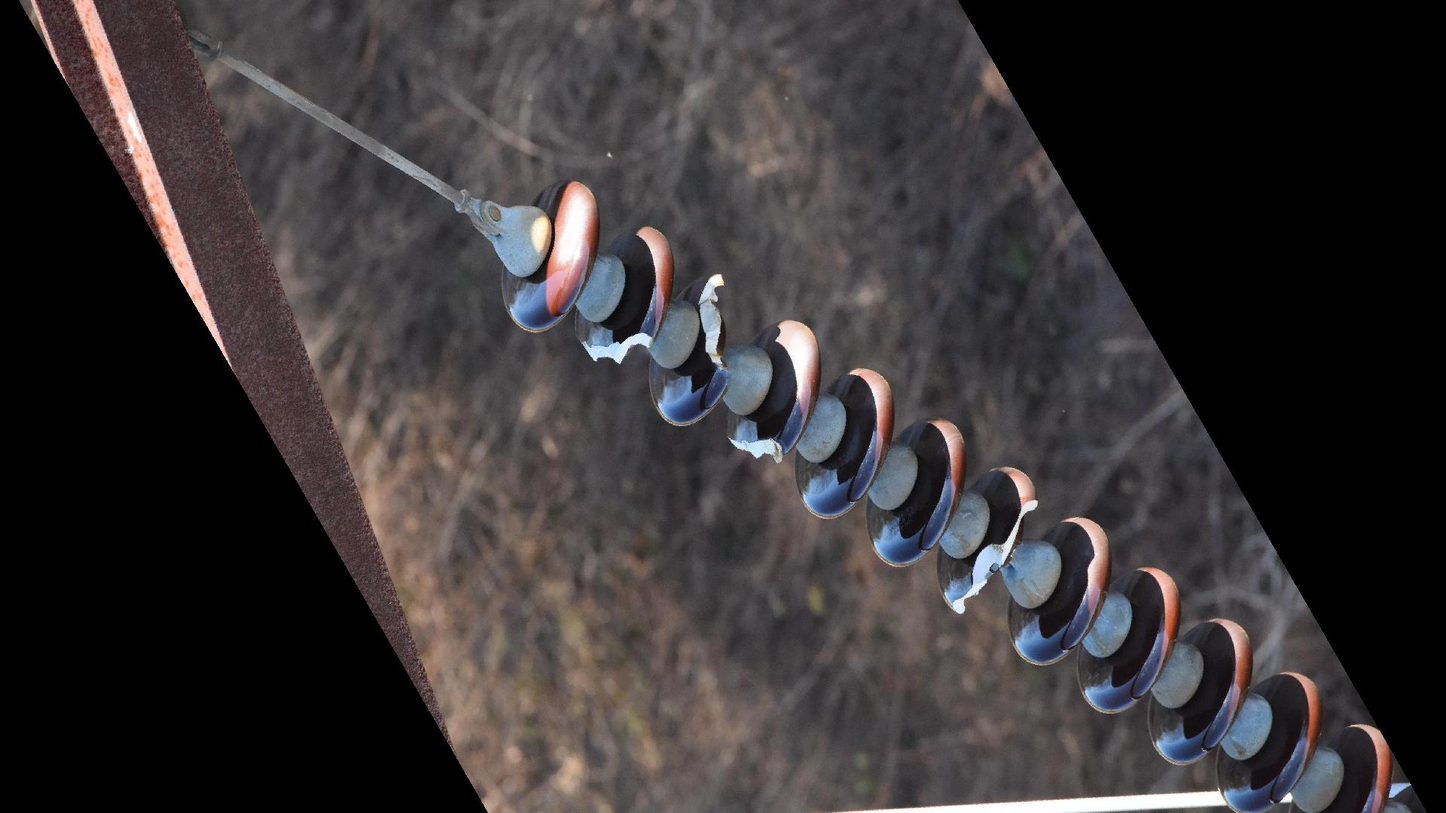insulator: (497, 173, 1399, 813)
insulator_breakage: (946, 491, 1045, 622), (694, 266, 734, 391), (572, 320, 664, 370), (721, 426, 789, 470)
